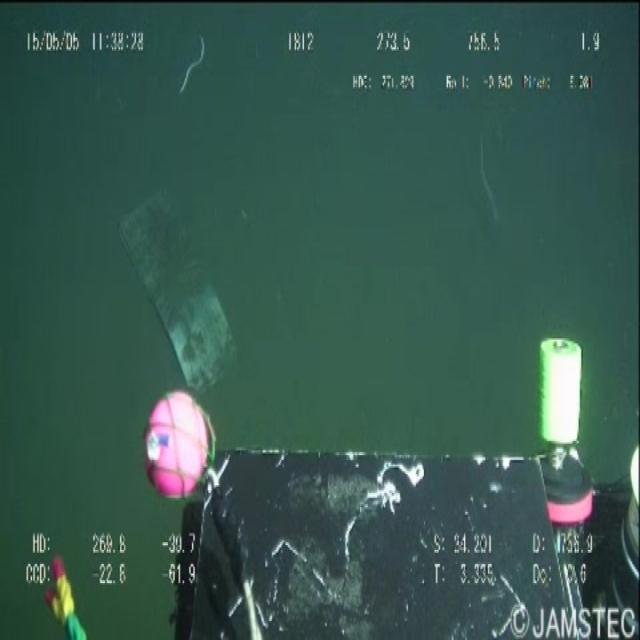Metal: (114, 172, 256, 411)
